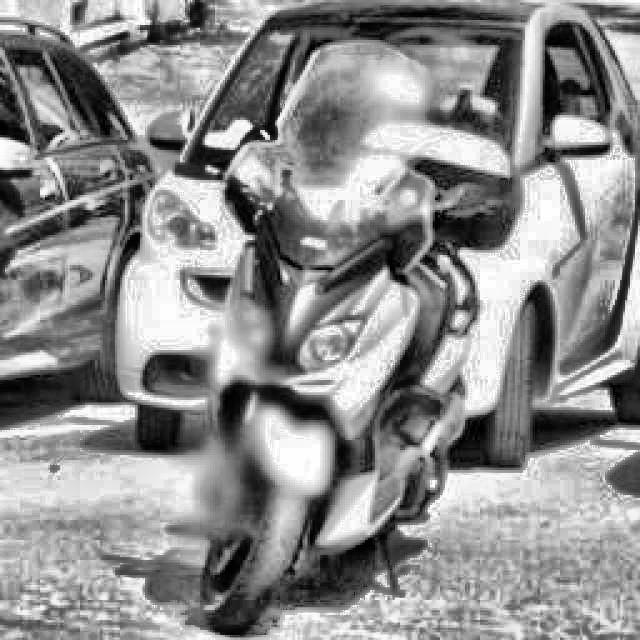motorcycle: (185, 44, 517, 634)
